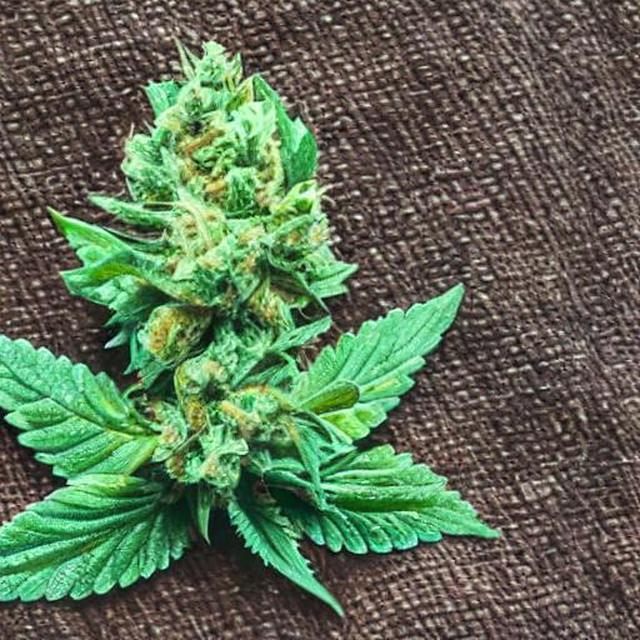Marijuana Joint: (1, 53, 429, 607)
